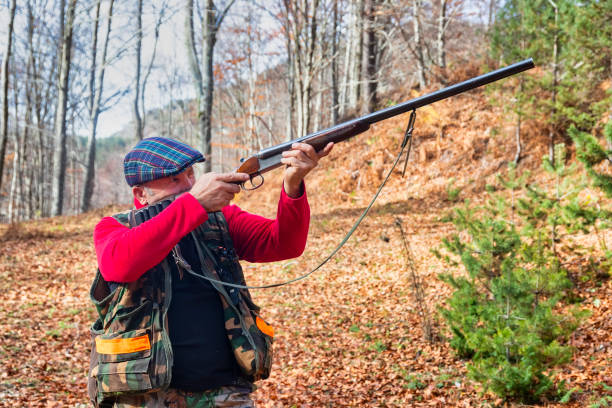gun: (125, 55, 536, 232)
